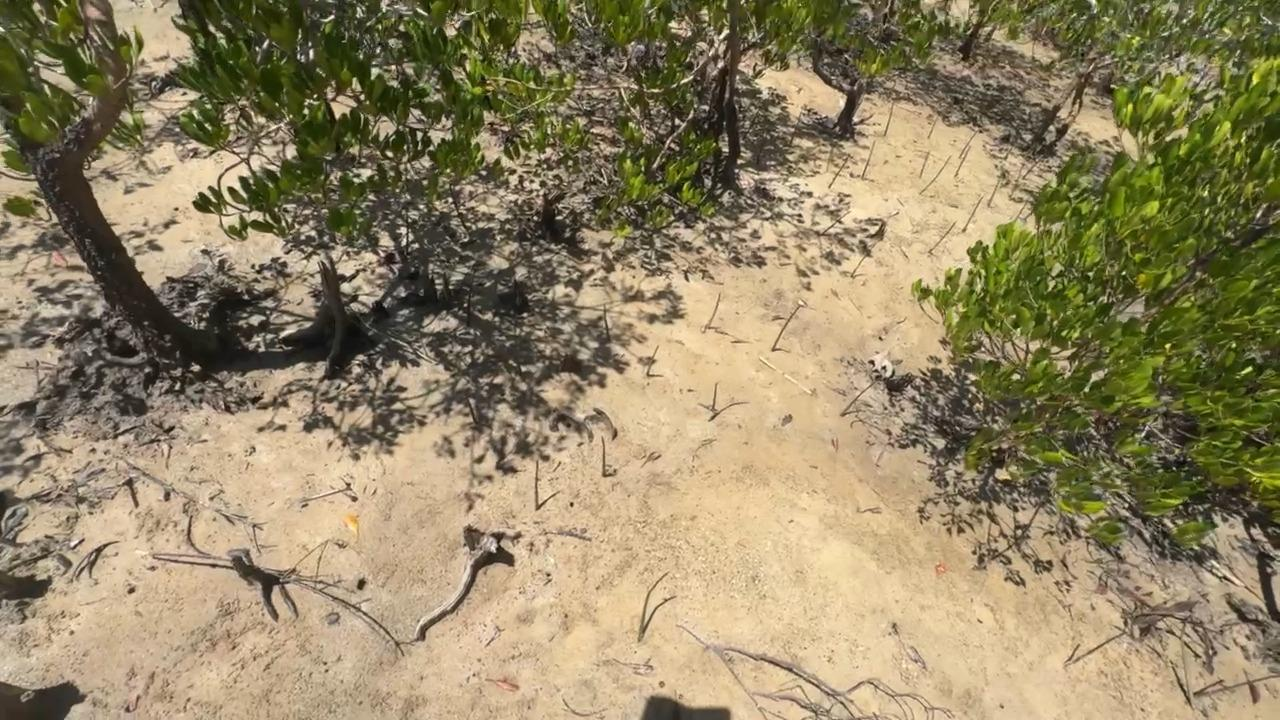Tree: (638, 570, 672, 642), (839, 378, 879, 417), (918, 154, 952, 195), (771, 305, 800, 352), (850, 240, 880, 278), (928, 220, 959, 252), (828, 153, 851, 188), (962, 196, 984, 232), (821, 211, 852, 236), (1021, 152, 1045, 181), (959, 128, 980, 158), (861, 139, 876, 179), (705, 292, 721, 329), (954, 146, 971, 178), (1012, 195, 1032, 221), (1011, 159, 1026, 193), (1193, 678, 1225, 693), (788, 112, 802, 146), (463, 394, 478, 423), (647, 344, 660, 376), (883, 103, 895, 137), (987, 180, 1001, 207), (534, 459, 541, 511), (919, 150, 932, 178), (602, 302, 611, 341), (1064, 643, 1081, 663), (927, 115, 939, 139), (116, 473, 133, 489), (601, 435, 607, 478), (466, 283, 471, 326), (1021, 208, 1036, 220), (712, 382, 718, 410)
